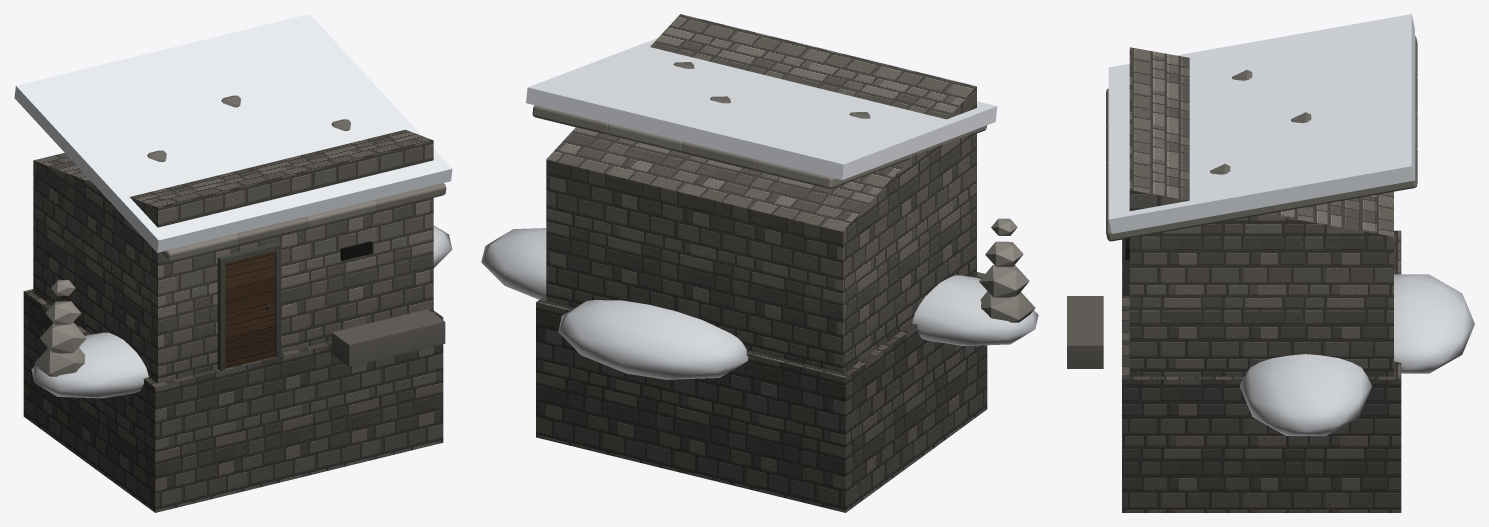
File: abrigo_de_pedra_neve.glb
3 views of the same model, side by side, from view 1: azimuth 30°, elevation 25°; view 2: azimuth 150°, elevation 25°; view 3: azimuth 270°, elevation 25° (orthographic). The views are drawn at different scales.
Visible parts, largest first — view 1: abrigo_de_pedra_neve, abrigo_de_pedra_neve_liso; view 2: abrigo_de_pedra_neve, abrigo_de_pedra_neve_liso; view 3: abrigo_de_pedra_neve, abrigo_de_pedra_neve_liso.
Part boxes in pixels (x1,y1,x2,y2): abrigo_de_pedra_neve: (23,129,443,512); abrigo_de_pedra_neve_liso: (14,14,452,398); abrigo_de_pedra_neve: (536,14,987,512); abrigo_de_pedra_neve_liso: (481,38,1038,379); abrigo_de_pedra_neve: (1122,47,1401,512); abrigo_de_pedra_neve_liso: (1067,14,1474,435).
Bounding box in the file's own units: 7.72 × 5.23 × 5.55.
3 materials, 2 textured.
